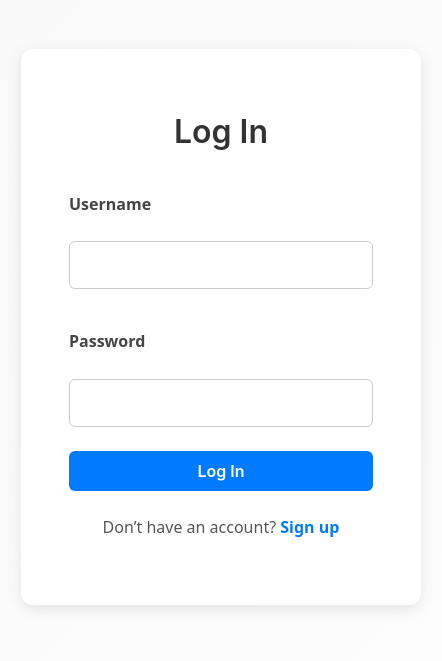
failed login: server error message
The width and height of the screenshot is (442, 661).
Type "testingworld" into the field labelled "Username" at (221, 265), box 69,241 -> 373,289
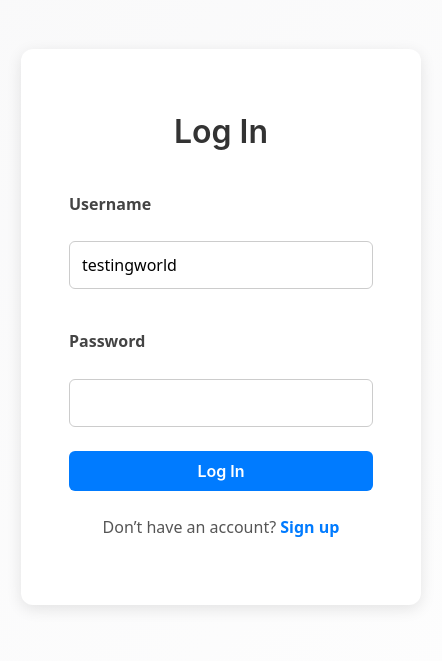
Type "testingworld" into the password field labelled "Password" at (221, 403), box 69,379 -> 373,427
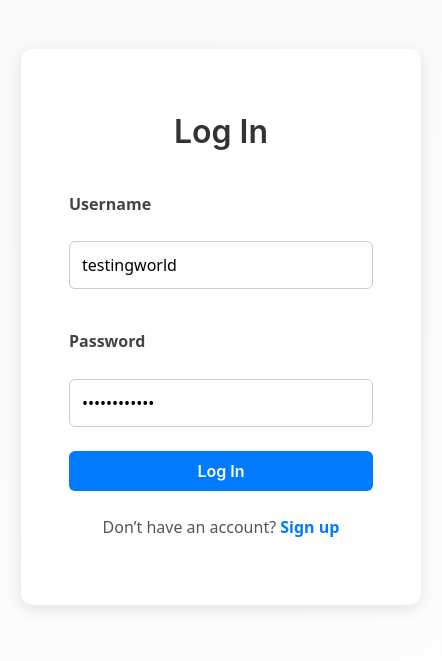
Click the button at (221, 471), box 69,451 -> 373,491
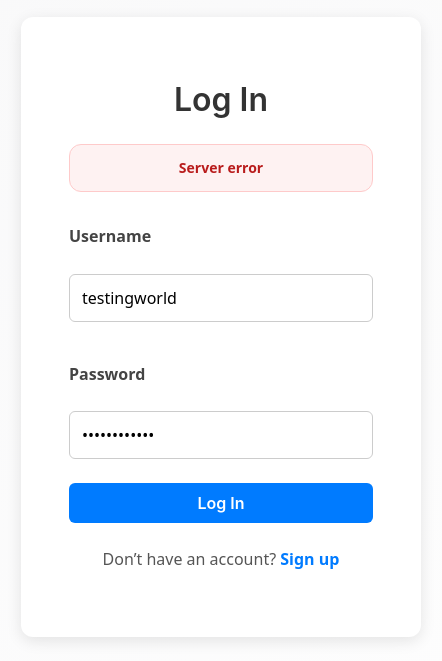
Expected: the text "Server error" is shown, 69,144 -> 373,192
